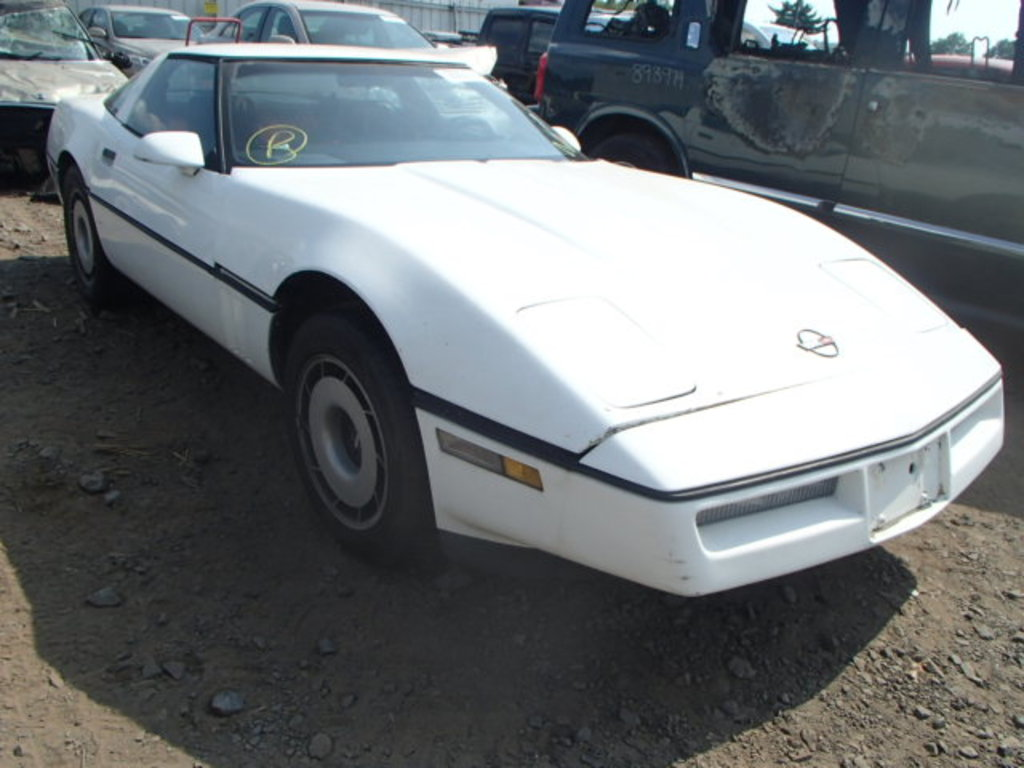Car: (0, 0, 1022, 593)
